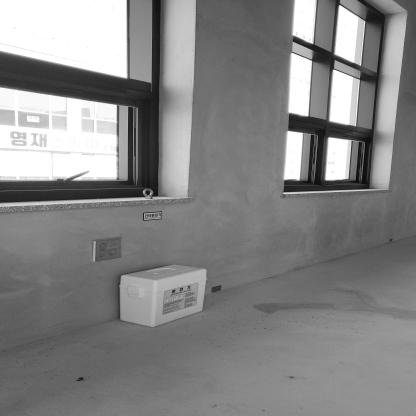DDL: (121, 266, 204, 327)
